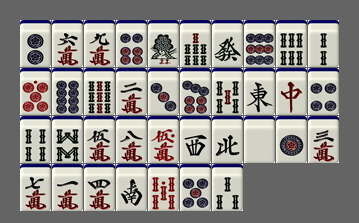0m: (148, 116, 179, 163)
0p: (20, 68, 51, 115)
0s: (148, 164, 179, 211)
1m: (52, 164, 83, 211)
1p: (276, 116, 307, 163)
1s: (148, 20, 179, 67)
1z: (244, 68, 275, 115)
2m: (116, 68, 147, 115)
2p: (20, 20, 51, 67)
2s: (308, 20, 339, 67)
2z: (116, 164, 147, 211)
3m: (308, 116, 339, 163)
3p: (148, 68, 179, 115)
3s: (212, 164, 243, 211)
3z: (180, 116, 211, 163)
4m: (84, 164, 115, 211)
4p: (308, 68, 339, 115)
4s: (20, 116, 51, 163)
4z: (212, 116, 243, 163)
5m: (84, 116, 115, 163)
5p: (180, 164, 211, 211)
5s: (212, 68, 243, 115)
5z: (244, 116, 275, 163)
6m: (52, 20, 83, 67)
6p: (116, 20, 147, 67)
6s: (276, 20, 307, 67)
6z: (212, 20, 243, 67)
7m: (20, 164, 51, 211)
7p: (180, 68, 211, 115)
7s: (180, 20, 211, 67)
7z: (276, 68, 307, 115)
8m: (116, 116, 147, 163)
8p: (52, 68, 83, 115)
8s: (52, 116, 83, 163)
9m: (84, 20, 115, 67)
9p: (244, 20, 275, 67)
9s: (84, 68, 115, 115)
